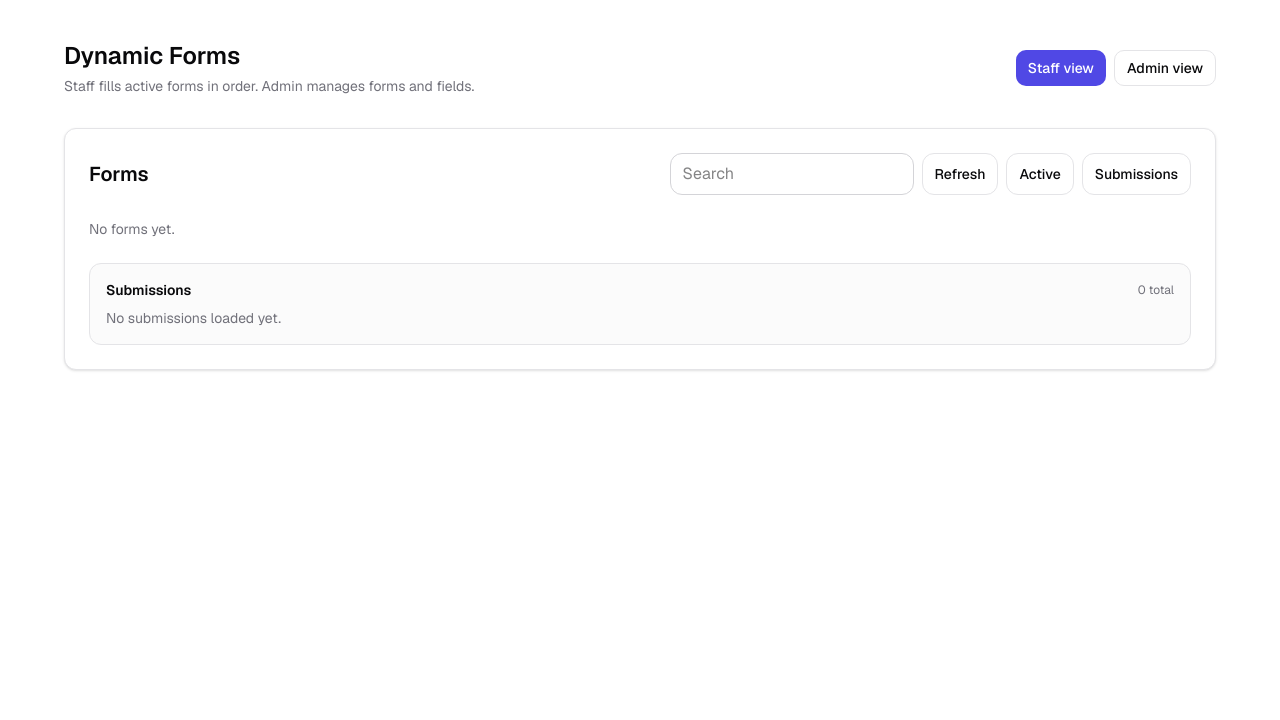
Scenario: FormsPageClient › debounces search input and refreshes when cleared
Click the button "Admin view" at point(1165, 68), box 1114,50 -> 1216,86
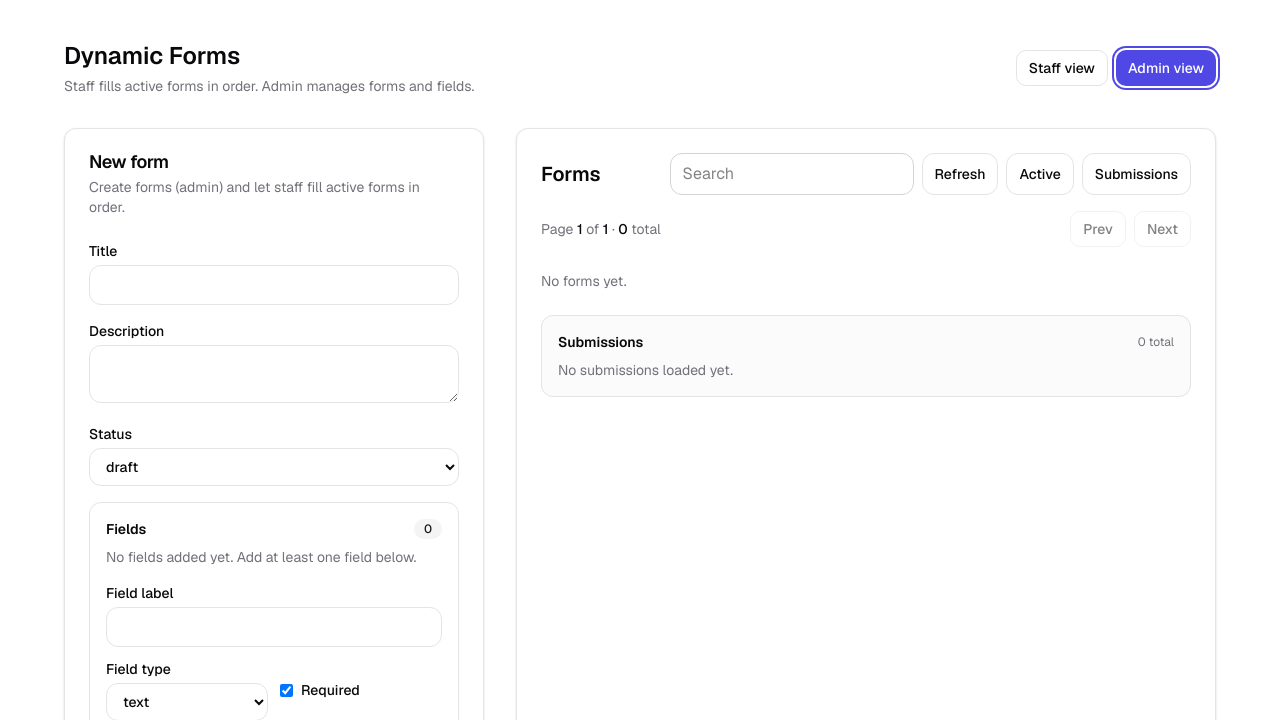
Now the button "Prev" is shown, box 1070,211 -> 1126,247
Now the button "Next" is shown, box 1134,211 -> 1191,247
Type "abc" into the field named "search forms" at point(792, 174), box 670,153 -> 914,195
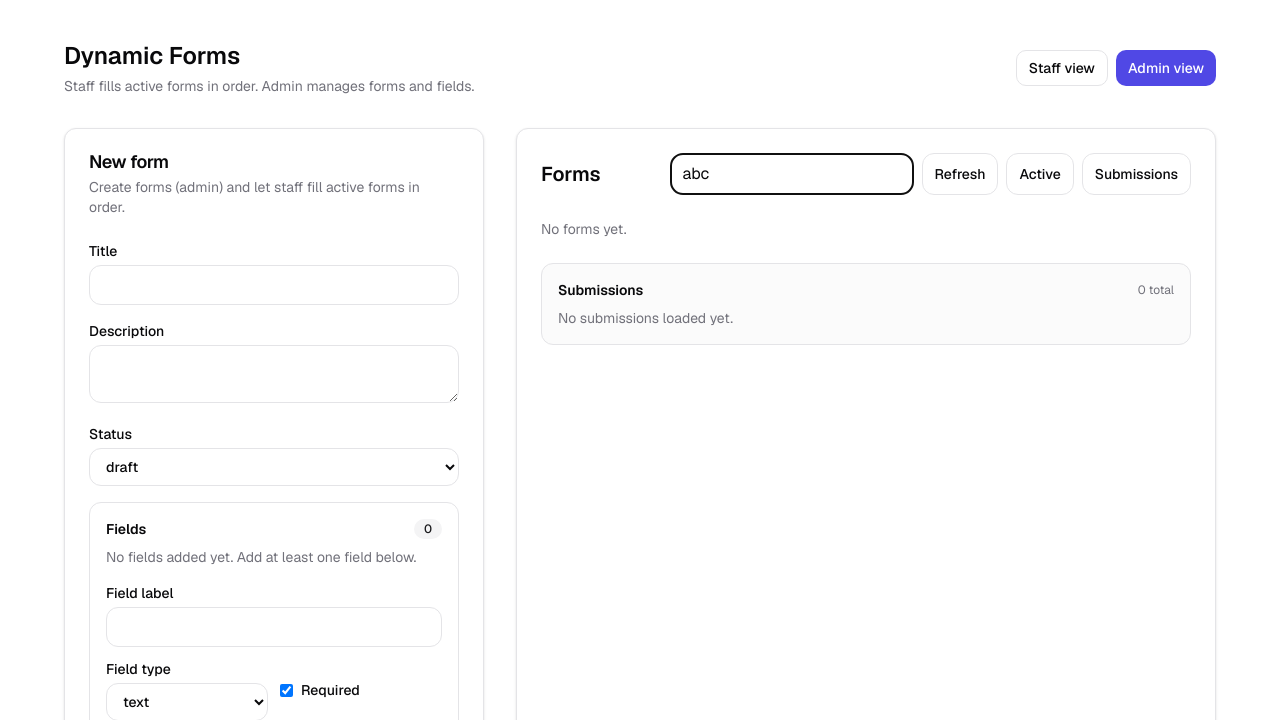
Now the button "Prev" is gone
Now the button "Next" is gone
Note: Clear the input. Empty query should refresh admin list (listPage), not search.
Clear the field named "search forms" at point(792, 174), box 670,153 -> 914,195
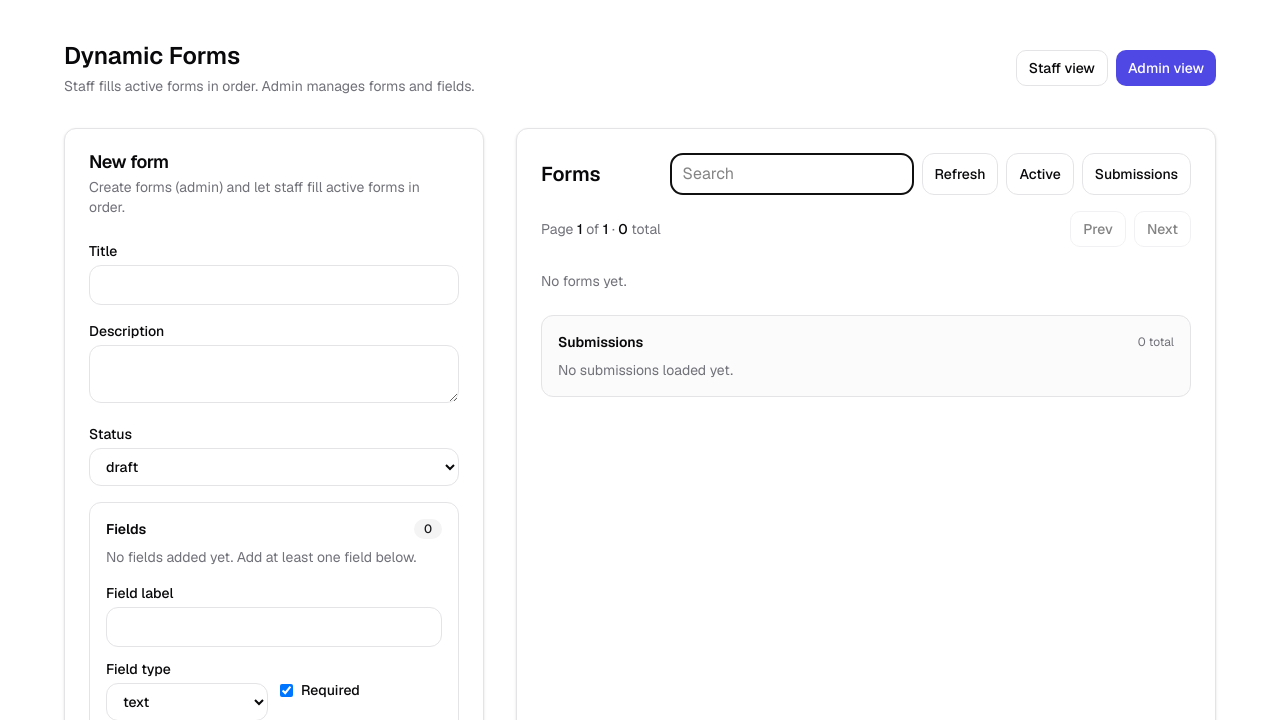
Now the button "Prev" is shown, box 1070,211 -> 1126,247
Now the button "Next" is shown, box 1134,211 -> 1191,247
